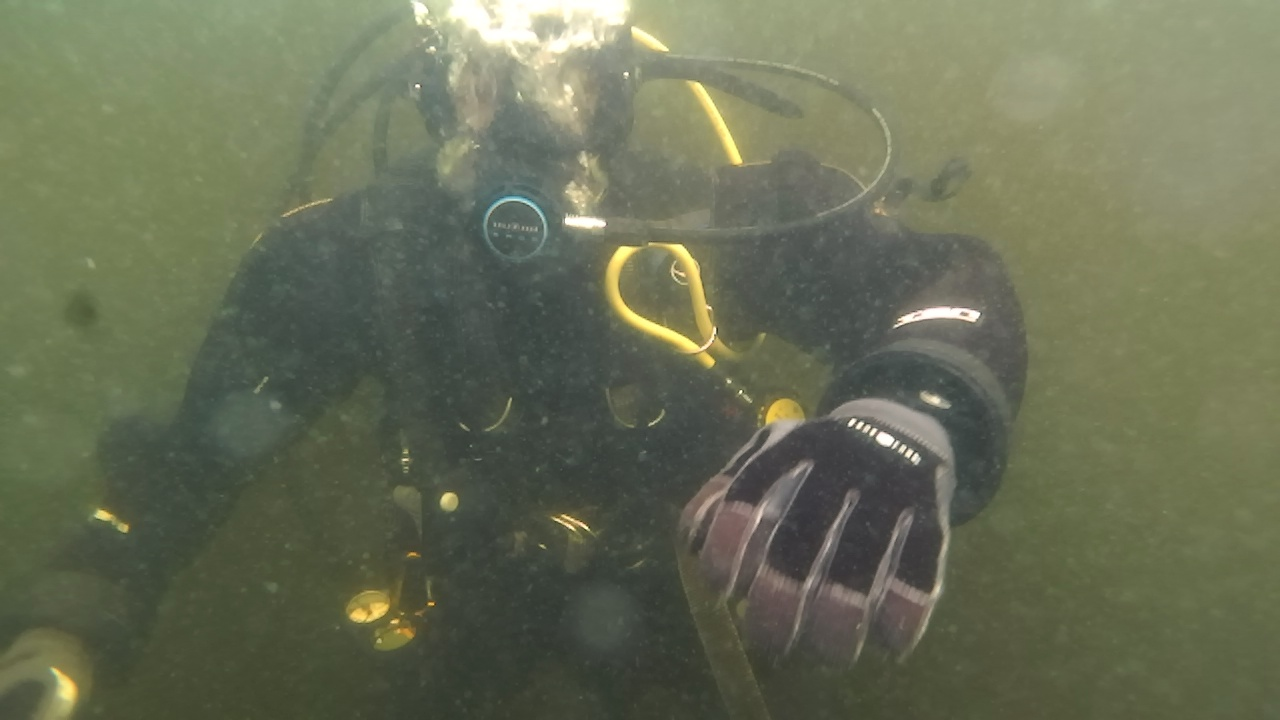Diver: (4, 6, 1050, 718)
Hand: (672, 388, 948, 678)
Head: (402, 8, 642, 272)
